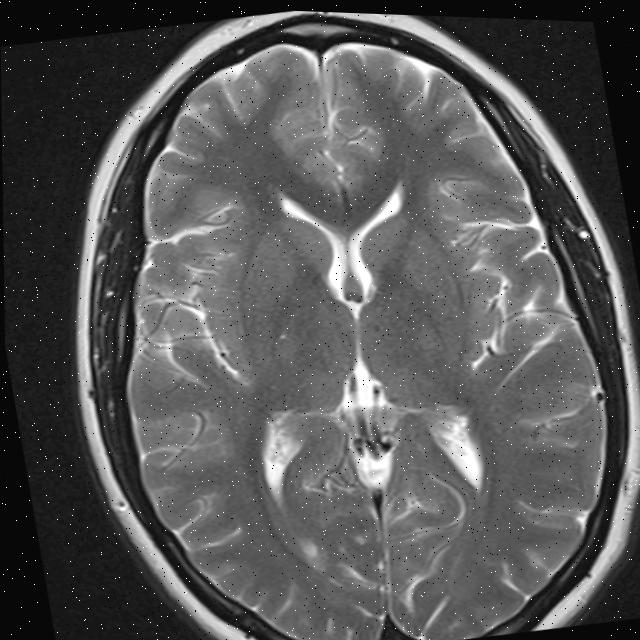NoTumor: (13, 0, 640, 640)
